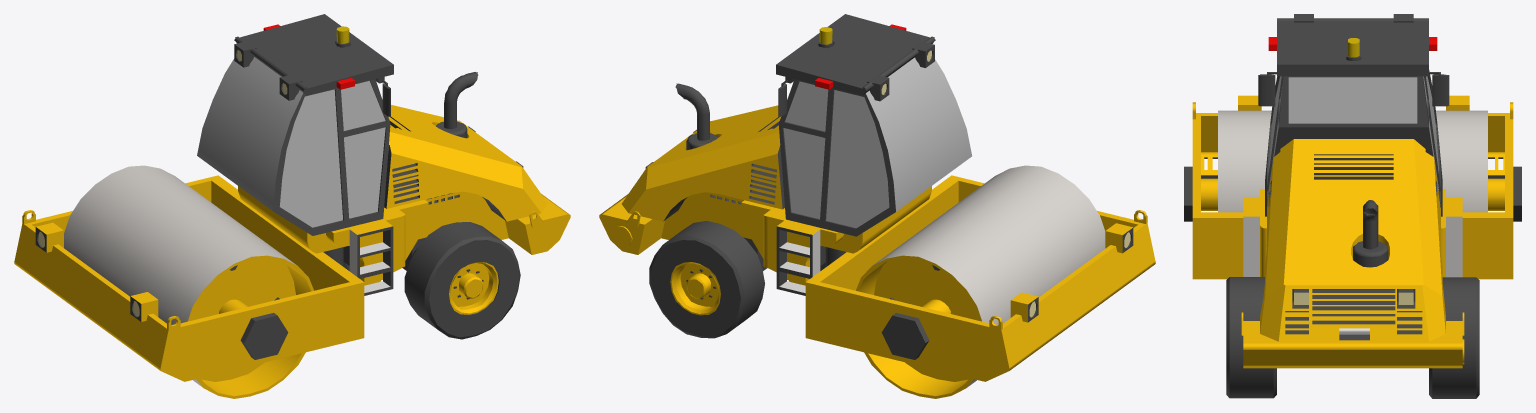
The model's file is roller.glb.
3 renders of one model, left to right at view 1: azimuth 30°, elevation 25°; view 2: azimuth 150°, elevation 25°; view 3: azimuth 270°, elevation 25°, orthographic. The views are drawn at different scales.
Visible parts, largest first — view 1: Fillet6; view 2: Fillet6; view 3: Fillet6.
Part boxes in pixels (left/top/right/bottom): Fillet6: left=14, top=14, right=570, bottom=398; Fillet6: left=599, top=14, right=1155, bottom=398; Fillet6: left=1184, top=14, right=1521, bottom=398.
Bounding box in the file's own units: 0.3256 × 0.2044 × 0.2004.
